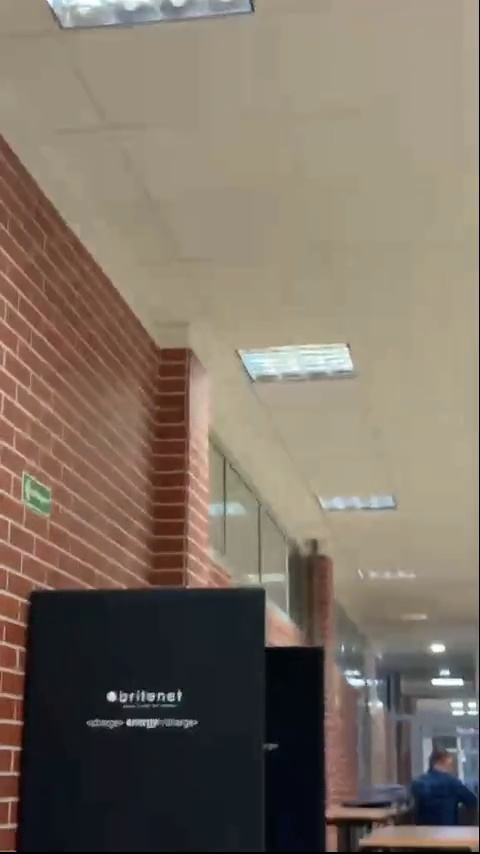no vest: (401, 735, 477, 835)
